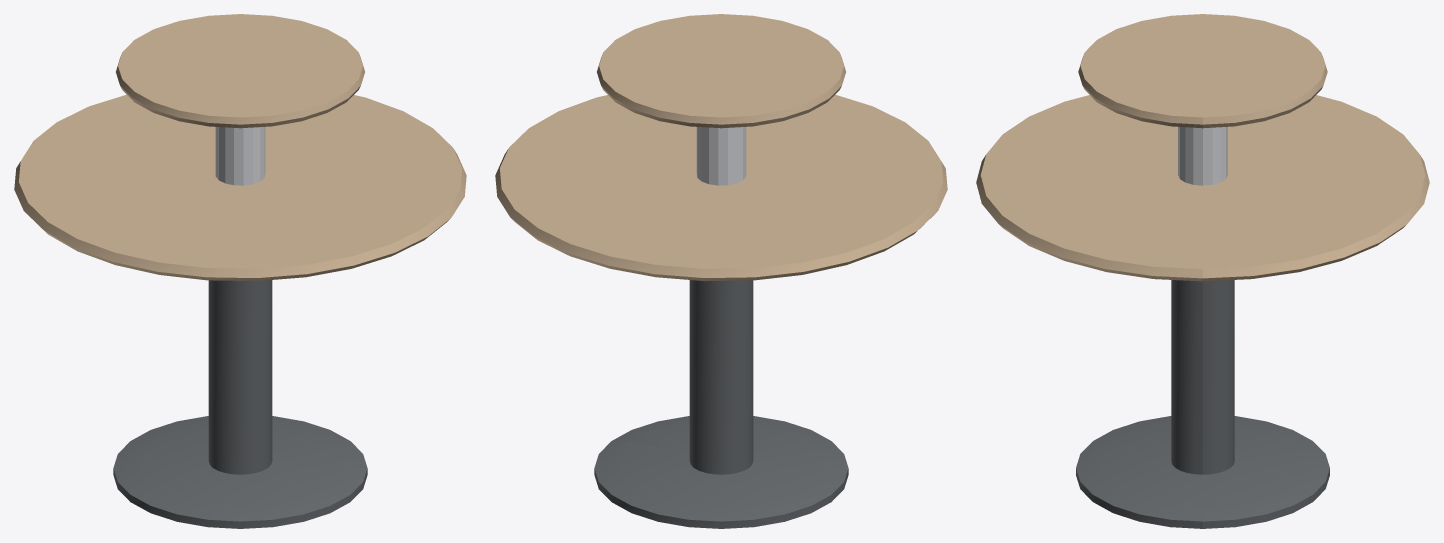
File: SM_Retail_25225_TieredRoundTable.fbx
3 renders of one model, left to right at view 1: azimuth 30°, elevation 25°; view 2: azimuth 150°, elevation 25°; view 3: azimuth 270°, elevation 25°, orthographic.
Visible parts, largest first — view 1: SM_Retail_25225_TieredRoundTable; view 2: SM_Retail_25225_TieredRoundTable; view 3: SM_Retail_25225_TieredRoundTable.
Part boxes in pixels (x1,y1,x2,y2): SM_Retail_25225_TieredRoundTable: (14, 14, 466, 528); SM_Retail_25225_TieredRoundTable: (495, 14, 947, 528); SM_Retail_25225_TieredRoundTable: (976, 14, 1429, 528).
Size of the model in its own units: 100 by 100 by 99.6.
